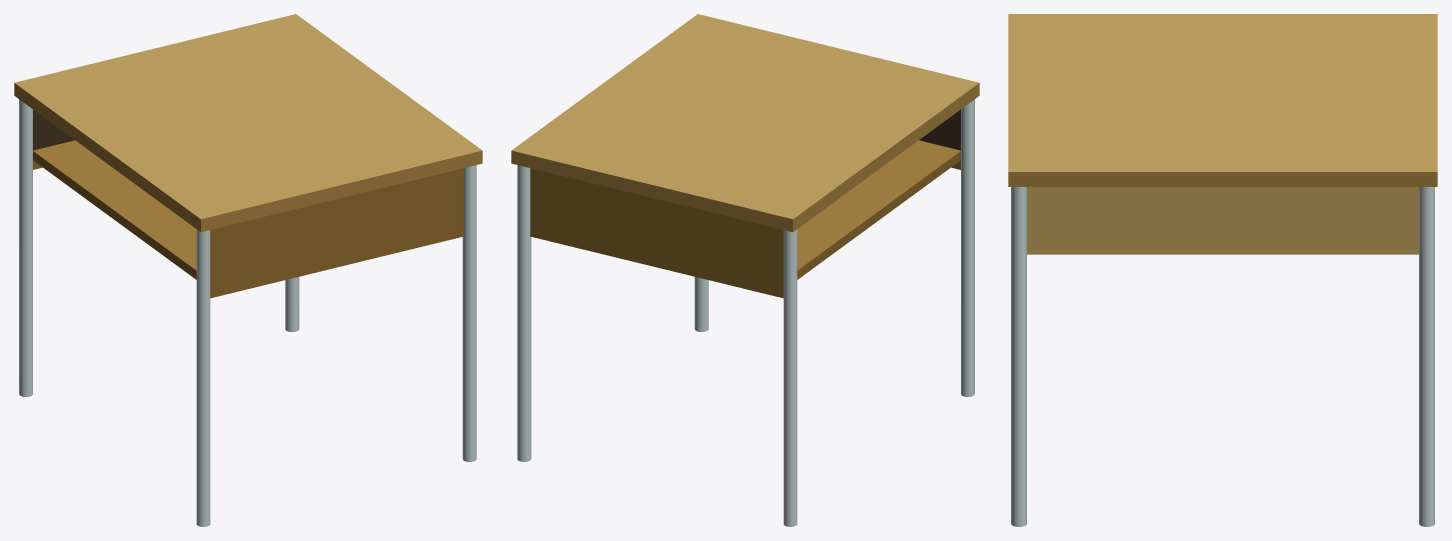
Rendered from Парта.fbx.
3 views of the same model, side by side, from view 1: azimuth 30°, elevation 25°; view 2: azimuth 150°, elevation 25°; view 3: azimuth 270°, elevation 25° (orthographic). The views are drawn at different scales.
Parts seen in each view (by area): view 1: Table; view 2: Table; view 3: Table.
Part boxes in pixels (left/top/right/bottom): Table: left=14, top=14, right=482, bottom=526; Table: left=511, top=14, right=979, bottom=526; Table: left=1008, top=14, right=1437, bottom=526.
Size of the model in its own units: 156 by 164 by 179.
